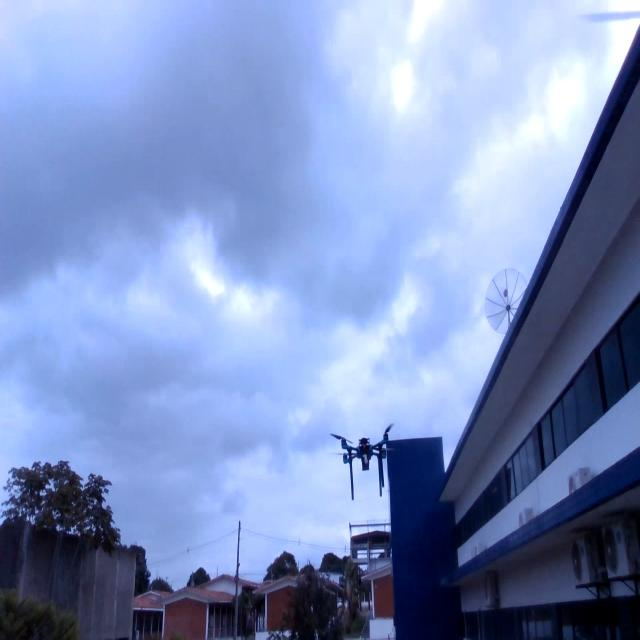-uav-: (326, 416, 405, 507)
